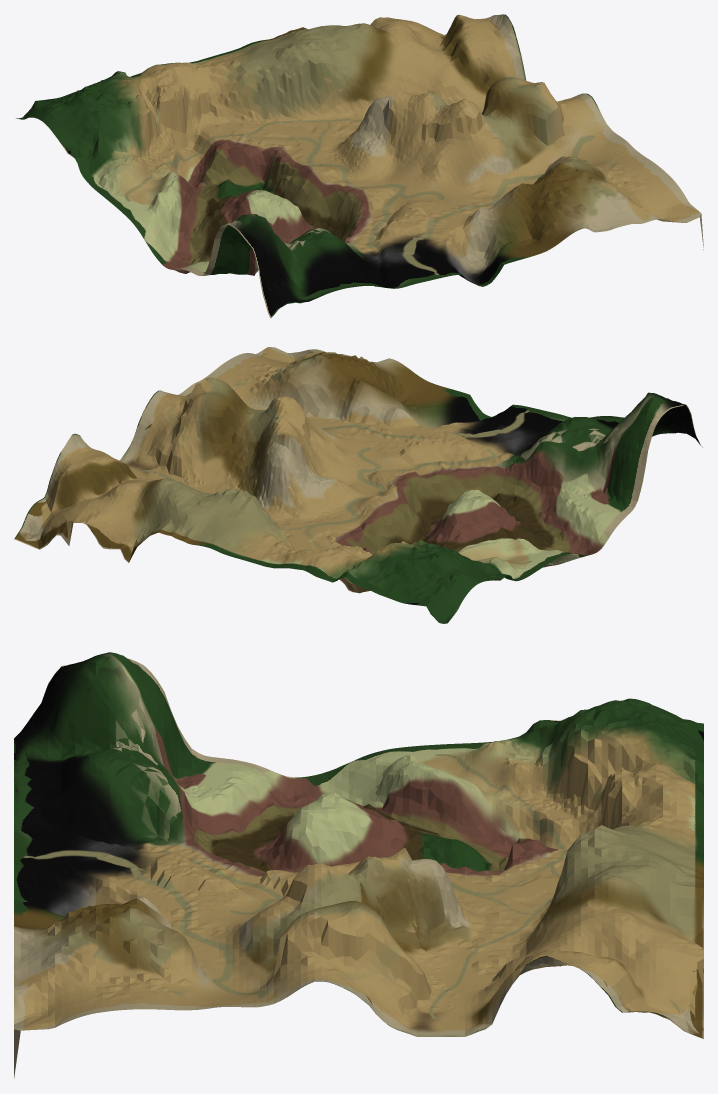
3 renders of one model, top to bottom at view 1: azimuth 30°, elevation 25°; view 2: azimuth 150°, elevation 25°; view 3: azimuth 270°, elevation 25°, orthographic. The views are drawn at different scales.
Visible parts, largest first — view 1: copysT12; view 2: copysT12; view 3: copysT12.
Part boxes in pixels (box(x1,y1,x2,y2)): copysT12: box(16, 14, 703, 318); copysT12: box(14, 347, 702, 623); copysT12: box(14, 652, 703, 1078).
Bounding box in the file's own units: 31667 × 7895 × 32440.
